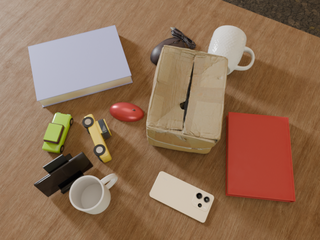book: (28, 25, 132, 107), (226, 112, 295, 202)
box: (146, 45, 228, 154)
cup: (208, 26, 254, 75), (69, 174, 117, 214)
mouse: (150, 27, 196, 65), (110, 102, 144, 122)
phone: (150, 171, 214, 222), (34, 152, 93, 197)
toy_car: (82, 114, 112, 162), (42, 113, 73, 153)
